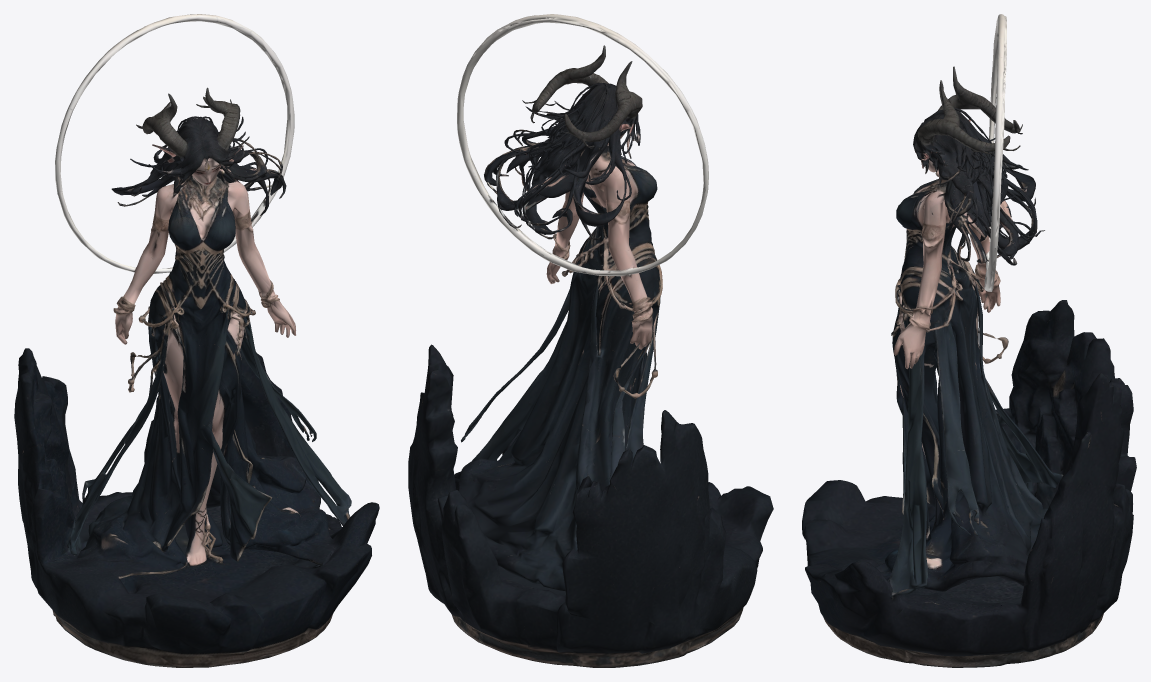
Rendered from Meshy_AI_Eclipse_Abyss_Sorcere_1026221004_texture.glb.
3 views of the same model, side by side, from view 1: azimuth 30°, elevation 25°; view 2: azimuth 150°, elevation 25°; view 3: azimuth 270°, elevation 25° (orthographic). The views are drawn at different scales.
Size of the model in its own units: 0.9649 by 1.9 by 0.9923.
Materials: 1 (1 with a texture image).
